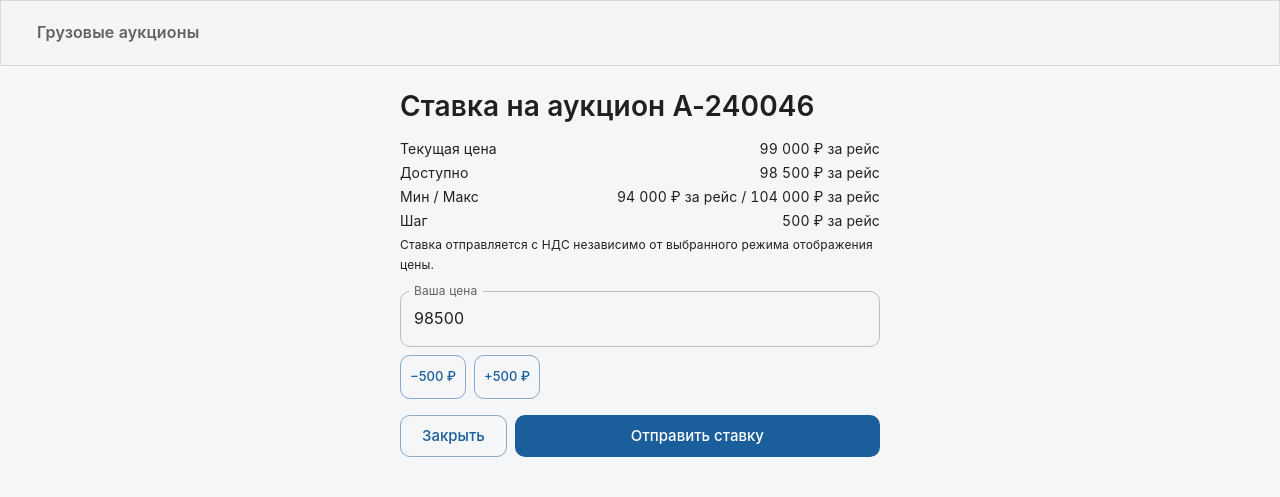
Test: Форма ставки — сквозной сценарий (8.5) › пустое поле цены не отправляет запрос — цена обязательна
Clear the number field named "Цена ставки" at (640, 318), box [400,290,880,346]
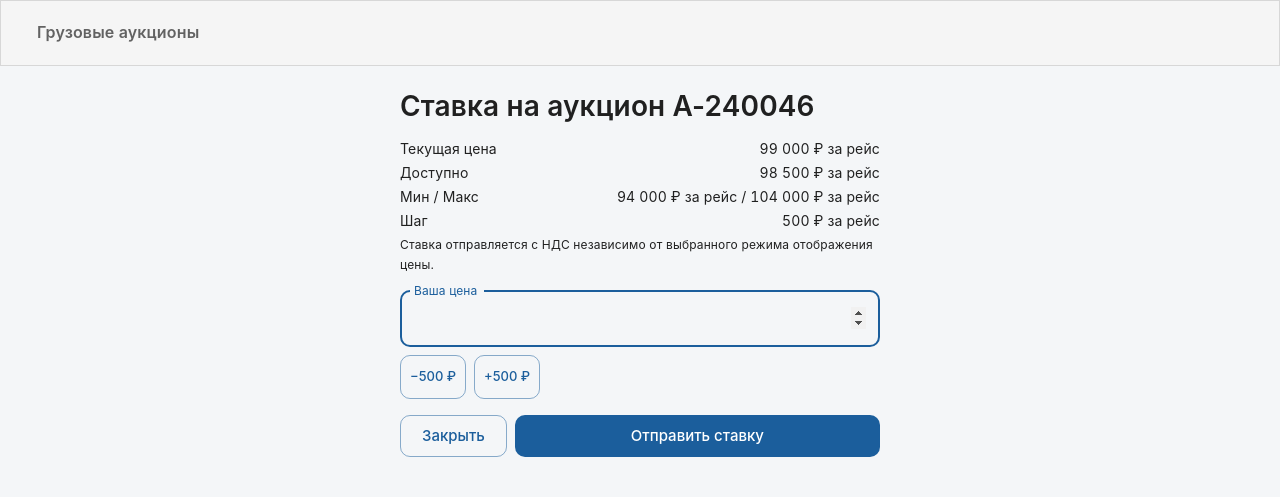
Click the button "Отправить ставку" at (697, 436), box [515,414,880,457]
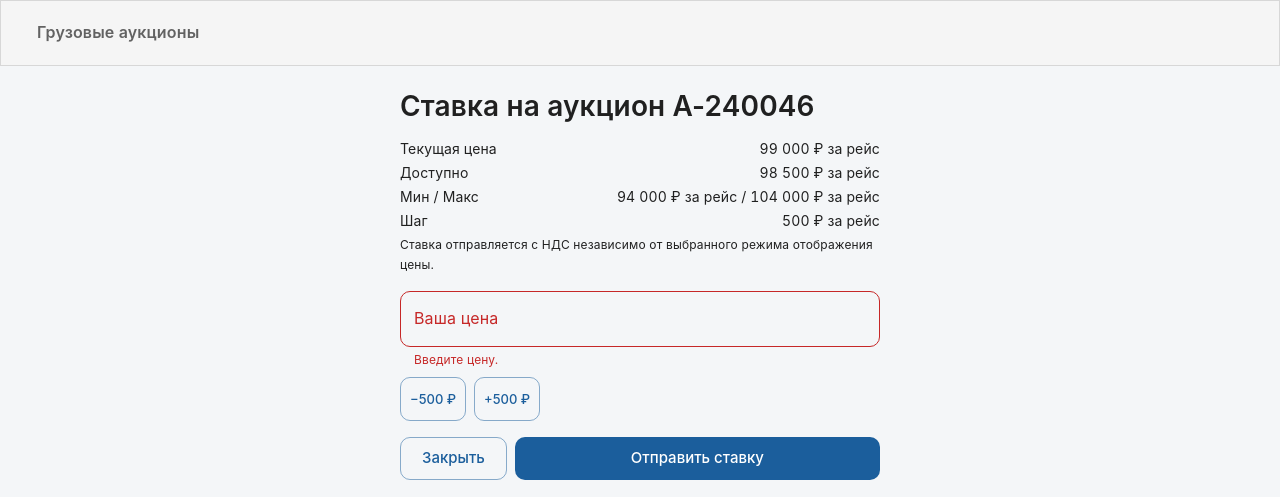
Expected: the text "Введите цену." is shown, [414,352,498,366]
